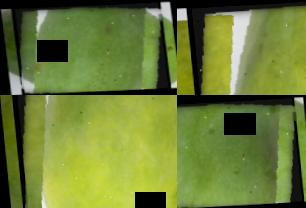PartiallyRipe: (11, 95, 177, 208), (189, 0, 306, 95)
Unripe: (13, 1, 169, 95), (177, 96, 301, 208)
